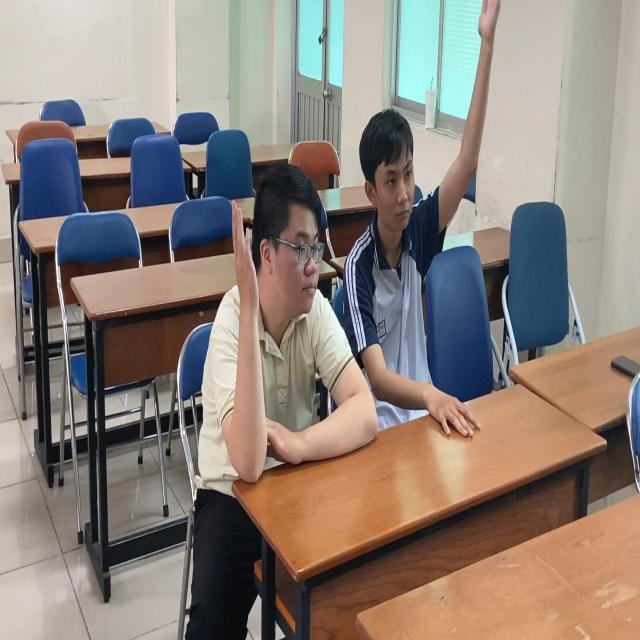raise_hand: (349, 1, 511, 443), (196, 169, 347, 472)
